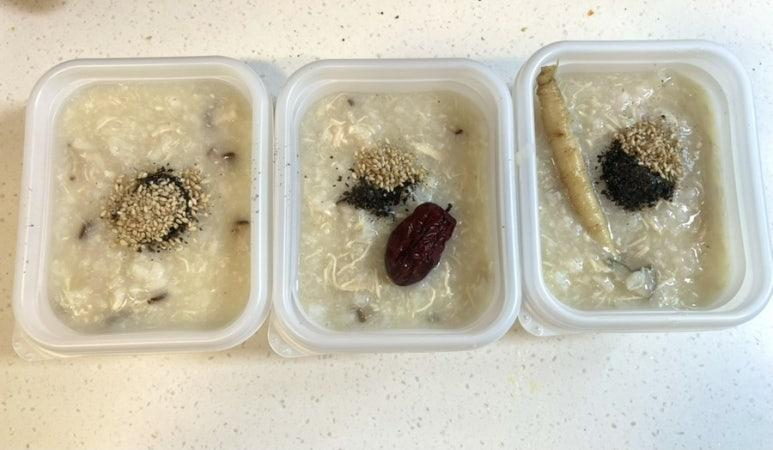Lunch Box: (12, 56, 272, 359), (514, 40, 772, 334), (268, 59, 520, 356)
